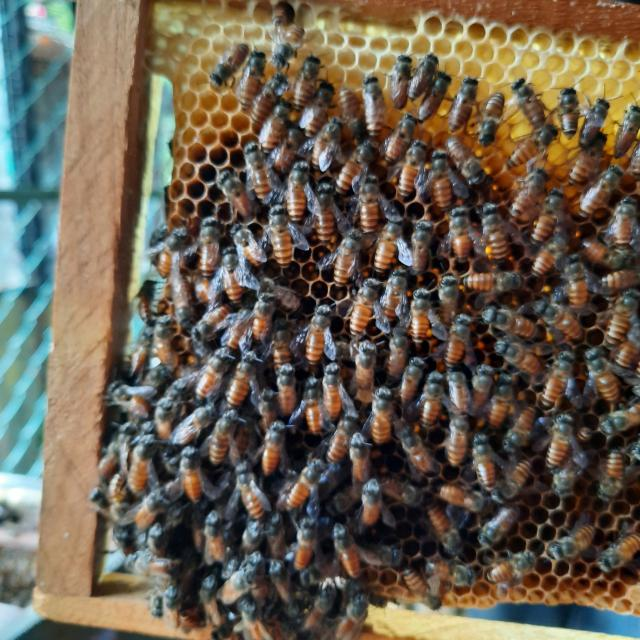honeybee: (508, 166, 552, 223), (507, 71, 544, 132), (507, 124, 556, 170), (358, 68, 388, 138), (532, 298, 582, 339), (251, 68, 284, 130), (606, 288, 640, 348), (462, 268, 531, 297), (538, 350, 573, 407), (574, 87, 606, 148), (383, 110, 414, 172), (306, 578, 339, 636), (479, 306, 538, 338), (445, 199, 477, 258), (208, 39, 248, 85), (401, 427, 437, 478), (481, 202, 512, 261), (302, 301, 331, 364), (532, 187, 564, 244), (491, 338, 546, 371), (422, 550, 472, 586), (566, 134, 606, 178), (244, 143, 276, 198), (548, 524, 598, 559), (219, 168, 252, 221), (586, 348, 616, 406), (366, 386, 395, 445), (290, 454, 320, 511), (196, 346, 226, 403), (582, 162, 614, 215), (614, 96, 640, 161), (470, 432, 500, 488), (226, 353, 256, 409), (380, 266, 408, 326), (546, 412, 574, 471), (267, 202, 292, 268), (399, 140, 427, 198), (218, 245, 246, 303), (232, 48, 262, 102), (447, 140, 486, 181), (440, 482, 487, 516), (404, 568, 440, 612), (165, 586, 198, 634), (224, 554, 259, 599), (427, 147, 455, 203), (477, 83, 501, 148), (238, 457, 262, 522), (195, 300, 232, 342), (605, 198, 637, 246), (207, 409, 233, 468), (108, 379, 147, 418), (332, 226, 359, 282), (302, 81, 330, 135), (322, 363, 348, 421), (375, 213, 401, 271), (386, 54, 411, 114), (596, 534, 640, 568), (408, 220, 435, 275), (348, 433, 377, 484), (484, 552, 536, 580), (351, 280, 376, 338), (446, 75, 476, 123), (480, 508, 520, 544), (311, 184, 336, 241), (298, 50, 323, 106), (377, 474, 419, 507), (420, 71, 450, 117), (330, 522, 356, 575), (602, 448, 628, 501), (562, 253, 589, 304), (502, 405, 534, 448), (409, 52, 438, 99), (275, 364, 301, 416), (578, 236, 628, 263), (129, 434, 153, 490), (284, 160, 308, 216), (359, 173, 385, 224), (419, 371, 444, 424), (429, 504, 457, 551), (234, 224, 263, 269), (340, 138, 366, 188), (168, 265, 194, 314), (442, 368, 468, 416), (305, 375, 326, 434), (503, 458, 532, 500), (554, 87, 578, 137), (408, 287, 429, 343), (272, 552, 295, 603), (400, 357, 423, 408), (200, 512, 224, 560), (290, 518, 314, 566), (384, 328, 408, 376), (262, 423, 284, 475), (596, 265, 640, 291), (365, 534, 403, 564), (448, 310, 469, 364), (180, 447, 204, 494), (341, 595, 366, 640), (198, 214, 218, 269), (445, 416, 469, 461), (256, 386, 280, 431), (471, 362, 491, 414), (359, 479, 382, 524), (603, 405, 640, 432), (488, 373, 510, 418), (263, 277, 297, 306), (201, 572, 219, 625), (159, 227, 179, 274), (137, 488, 158, 531), (313, 119, 334, 162), (266, 321, 290, 358), (229, 309, 250, 351), (152, 317, 172, 360), (250, 292, 270, 334), (172, 369, 197, 402), (129, 329, 149, 370), (243, 603, 265, 640), (341, 87, 356, 138), (441, 275, 459, 317), (157, 398, 175, 439), (134, 278, 152, 318), (271, 3, 289, 27), (284, 26, 301, 42)
